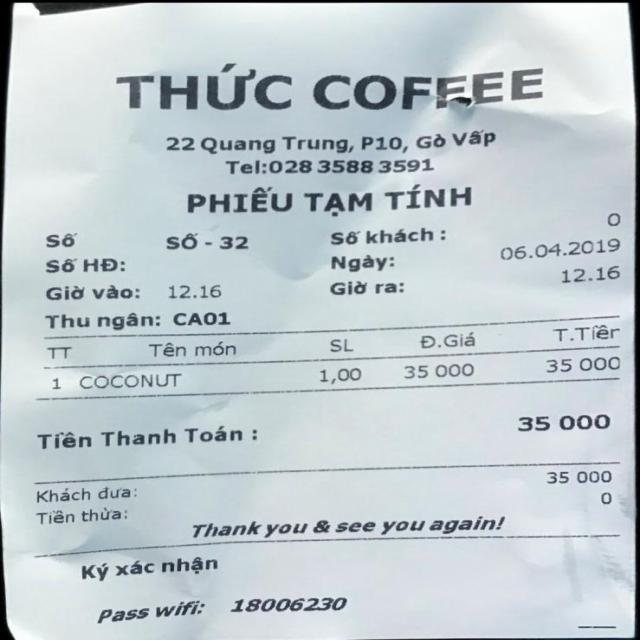Date: (492, 234, 626, 265)
Store_Name: (103, 60, 565, 122)
Total_Amount: (27, 405, 626, 457)
